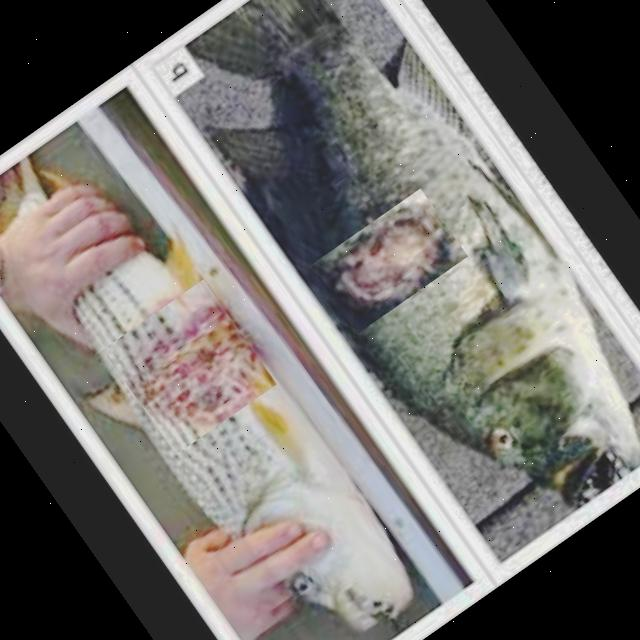Aeromonas Septicemia: (187, 0, 640, 502), (79, 245, 412, 627)
